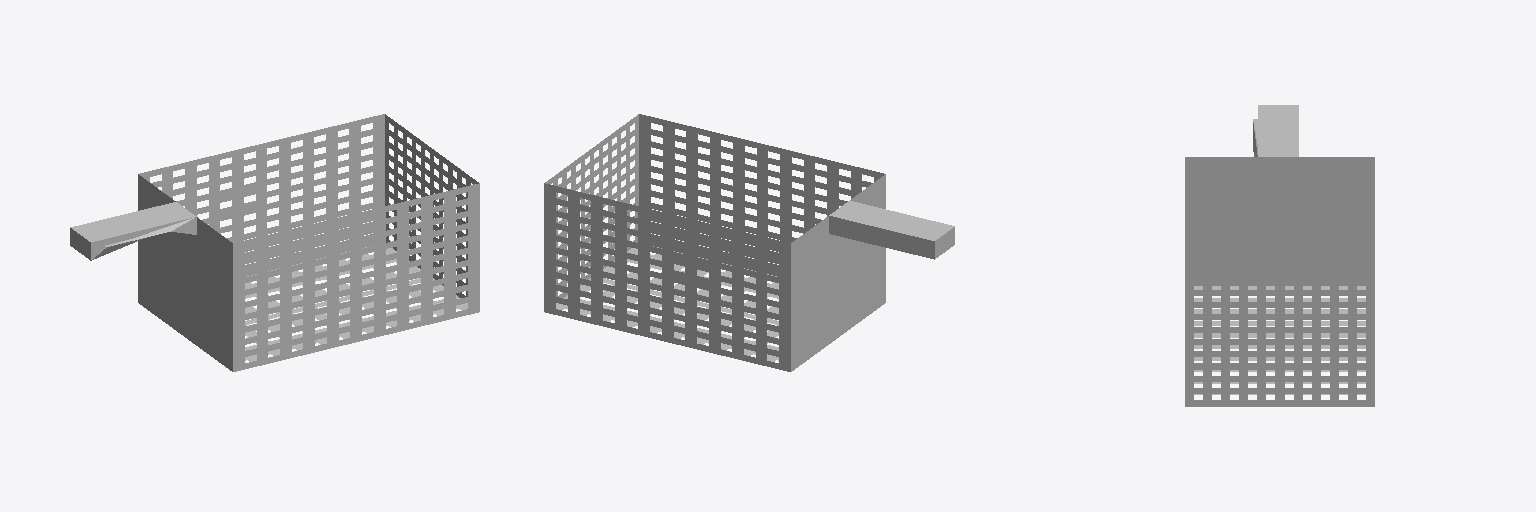
File: mesa_centro_freidora2.obj
The picture shows the model from 3 angles: view 1: azimuth 30°, elevation 25°; view 2: azimuth 150°, elevation 25°; view 3: azimuth 270°, elevation 25°; orthographic projection.
Parts seen in each view (by area): view 1: Cubo.031_Cubo.032; view 2: Cubo.031_Cubo.032; view 3: Cubo.031_Cubo.032.
Boxes of the visible parts, x1,y1,x2,y2 form: Cubo.031_Cubo.032: [70, 114, 479, 371]; Cubo.031_Cubo.032: [544, 114, 954, 371]; Cubo.031_Cubo.032: [1185, 105, 1374, 406].
Bounding box in the file's own units: 0.8573 × 0.3 × 0.4.